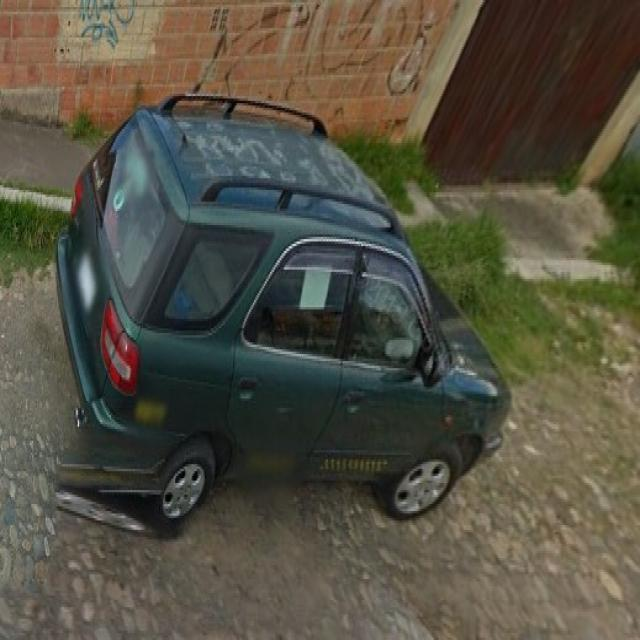cars: (64, 87, 508, 496)
